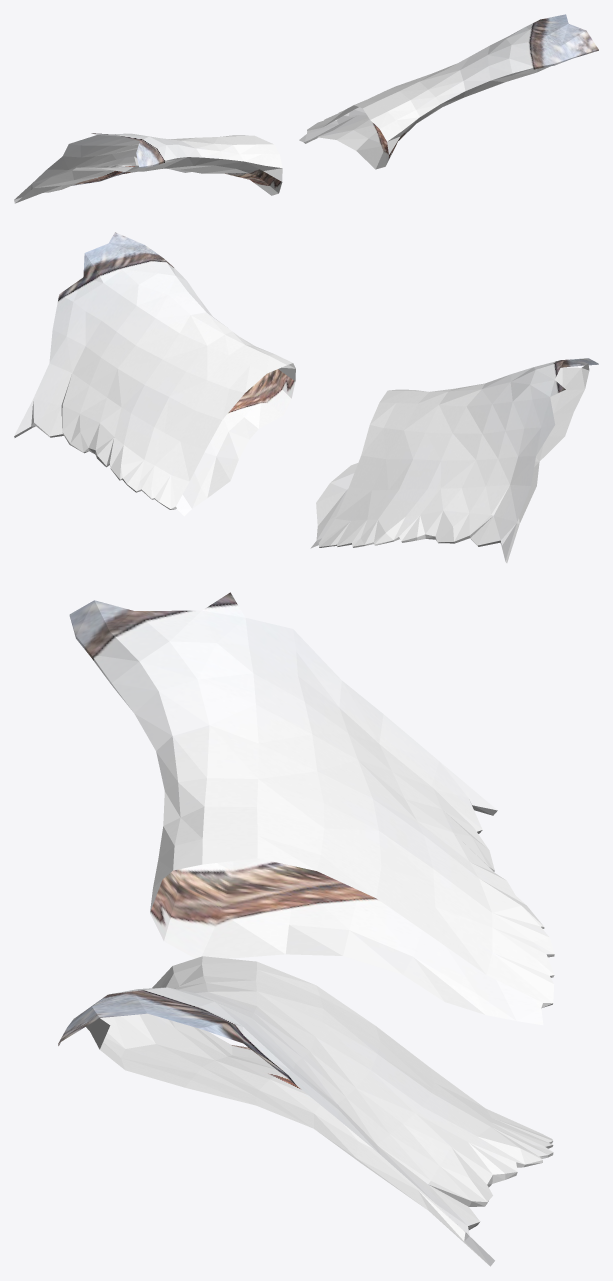
The model's file is mediaAla.obj.
3 views of the same model, one above another, from view 1: azimuth 30°, elevation 25°; view 2: azimuth 150°, elevation 25°; view 3: azimuth 270°, elevation 25° (orthographic). The views are drawn at different scales.
Parts seen in each view (by area): view 1: polySurface19 polySurface14 polySurface6; view 2: polySurface19 polySurface14 polySurface6; view 3: polySurface19 polySurface14 polySurface6.
Part boxes in pixels (box(x1,y1,x2,y2)): polySurface19 polySurface14 polySurface6: box(14, 14, 598, 203); polySurface19 polySurface14 polySurface6: box(14, 232, 598, 563); polySurface19 polySurface14 polySurface6: box(58, 592, 554, 1266).
Size of the model in its own units: 1.7 by 0.5032 by 0.7606.
